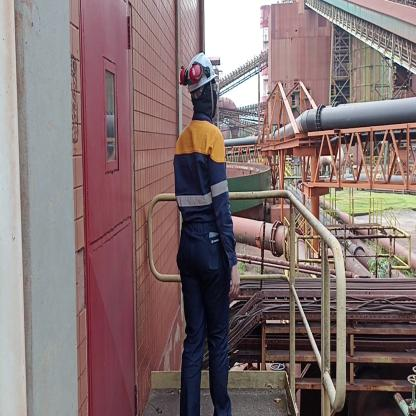Balaclava: (190, 83, 217, 116)
Capacete: (180, 49, 221, 86)
Operacional: (174, 117, 232, 232)
